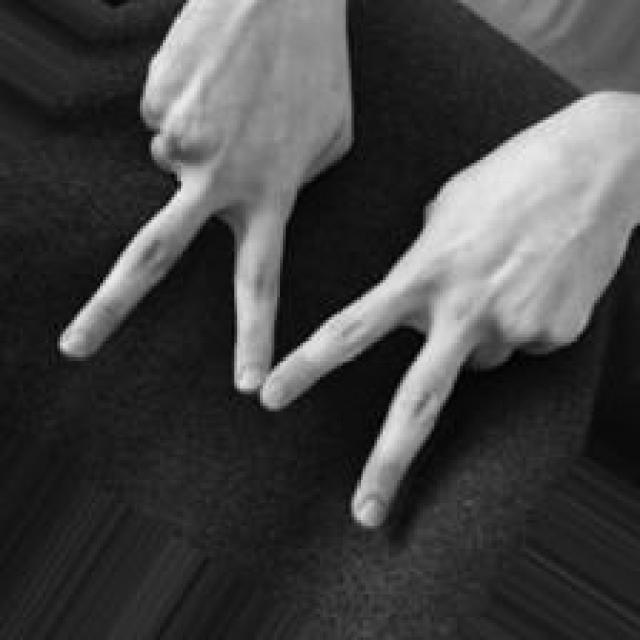M: (57, 1, 640, 532)
